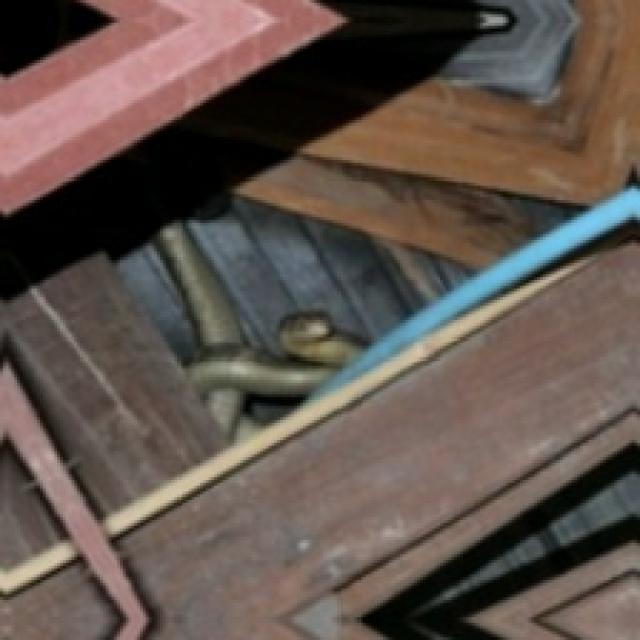king cobra: (154, 220, 363, 434)
